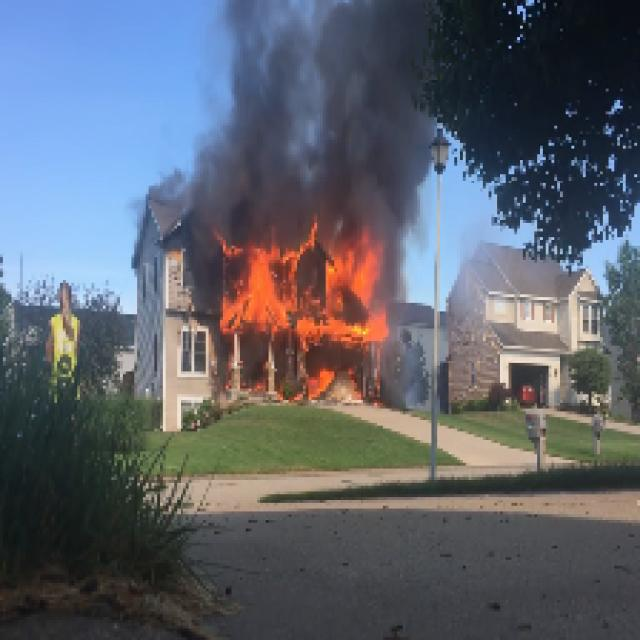fire: (230, 248, 381, 362)
smoke: (244, 7, 416, 242)
